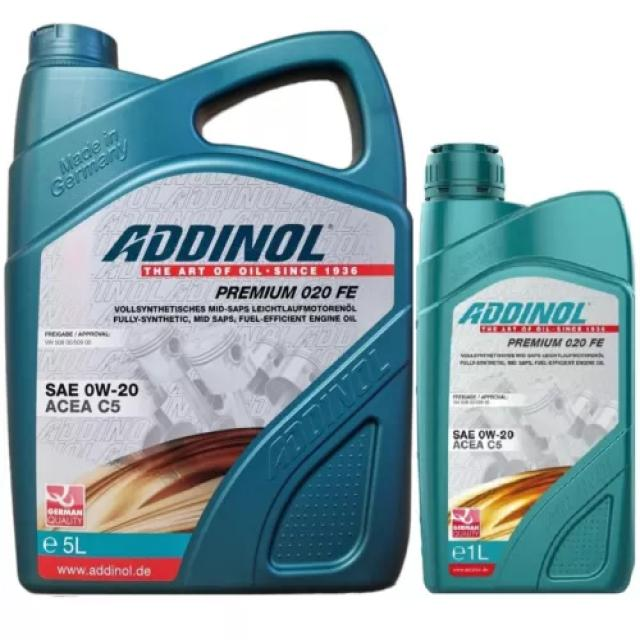motor_oil: (5, 14, 415, 591), (426, 127, 640, 598)
